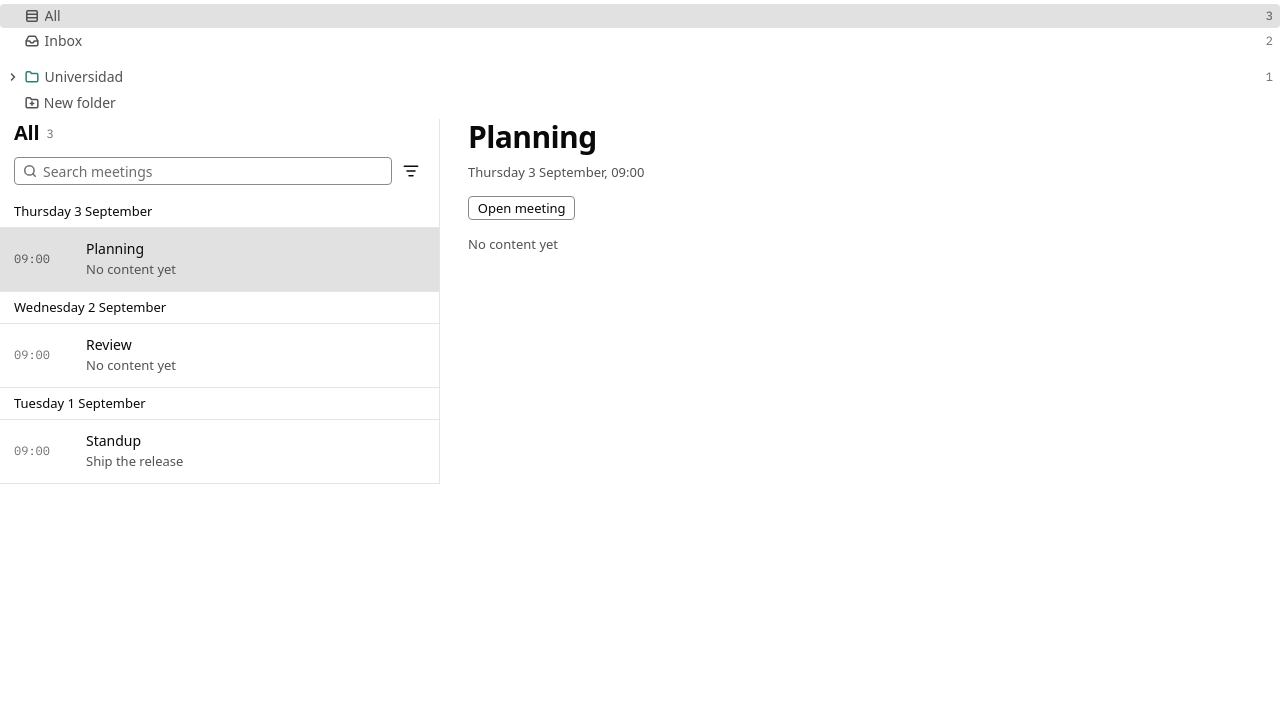
it: folders › creates a child of the selected folder and says where
Click the list item "Universidad 1" at [84, 77], box [0,65,1279,90]
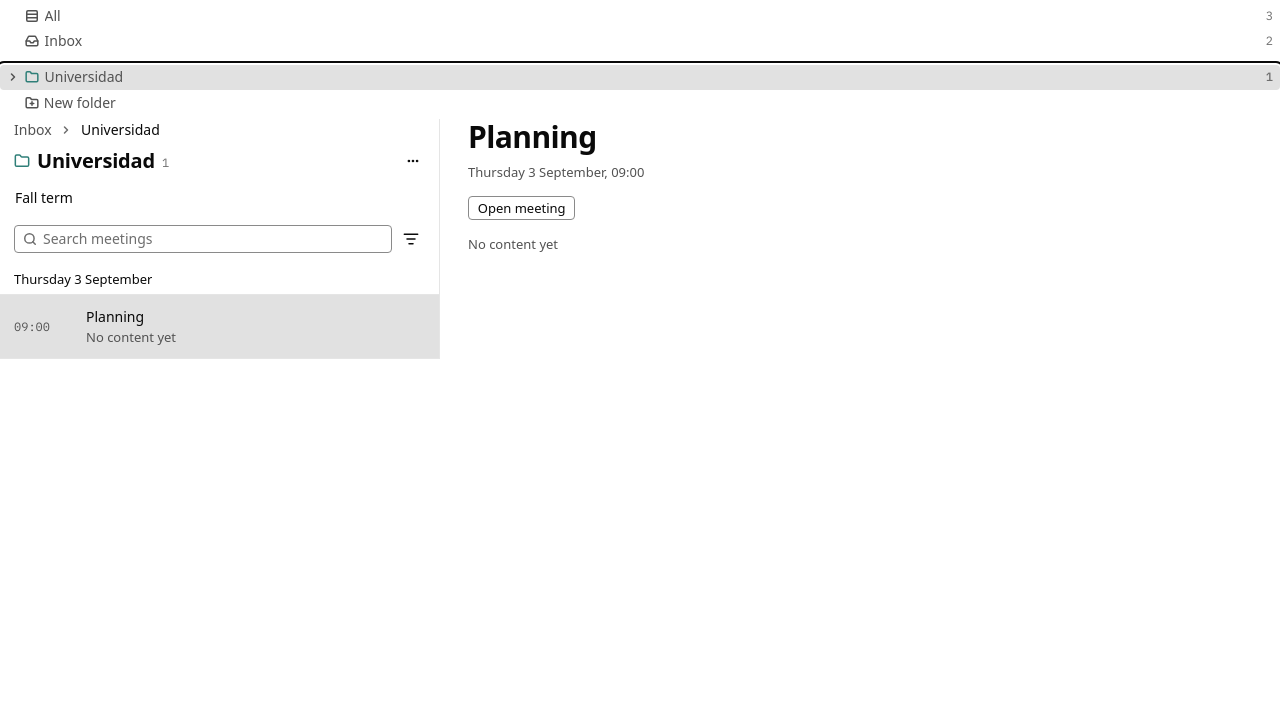
Click the button "New folder" at [80, 102], box [0,90,1279,115]
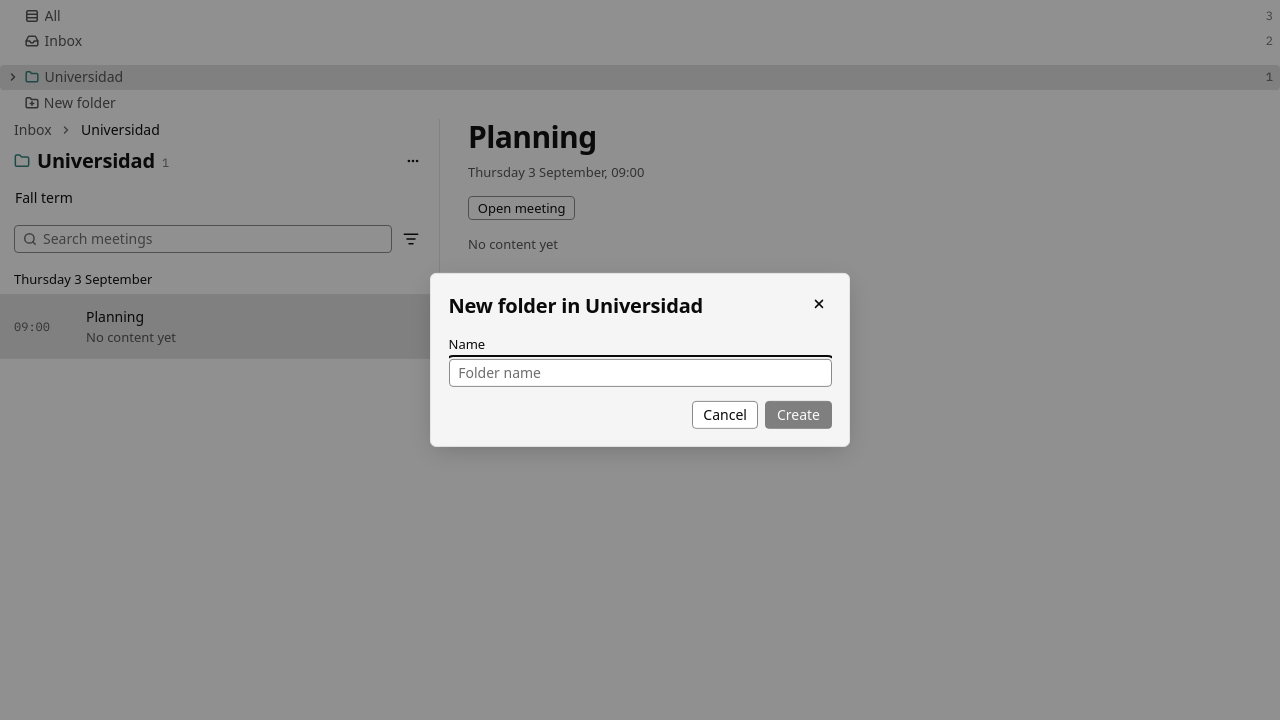
Type "Fisica" into the field labelled "Name" at [640, 373], box [448,359,832,387]
Then press Enter
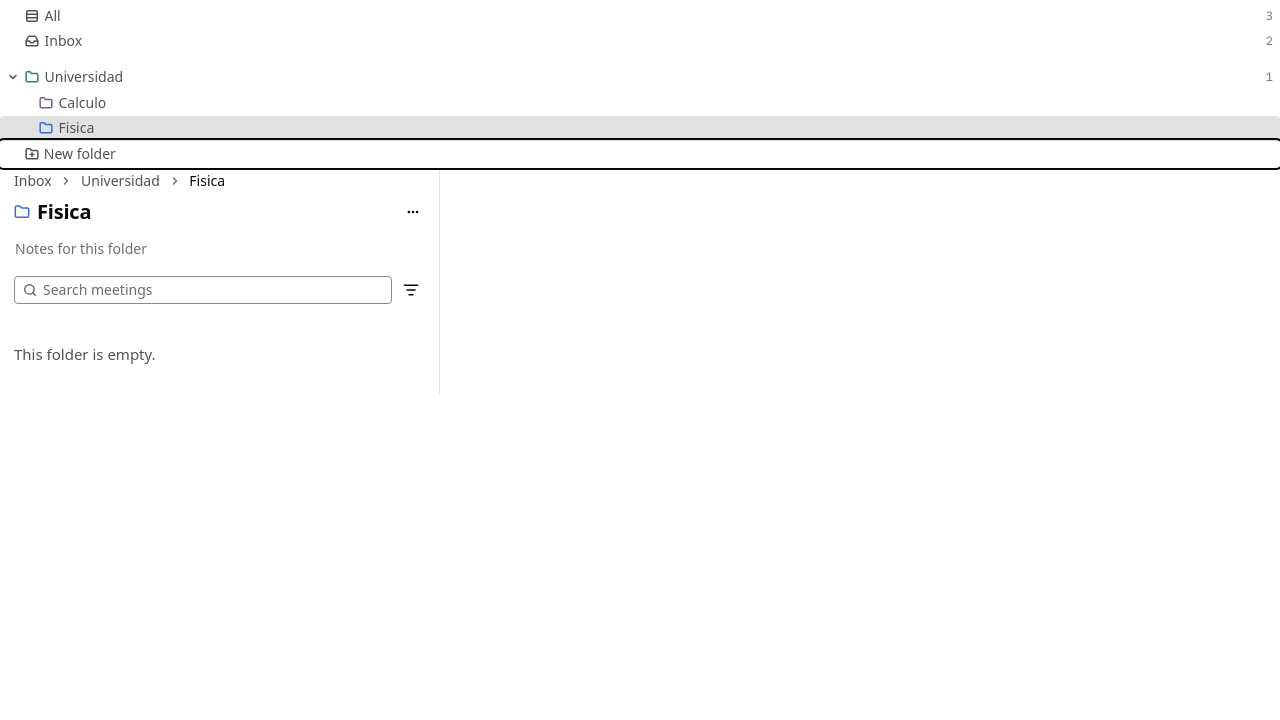
Expected: the list item "Universidad 1" is expanded, [0,65,1279,90]
